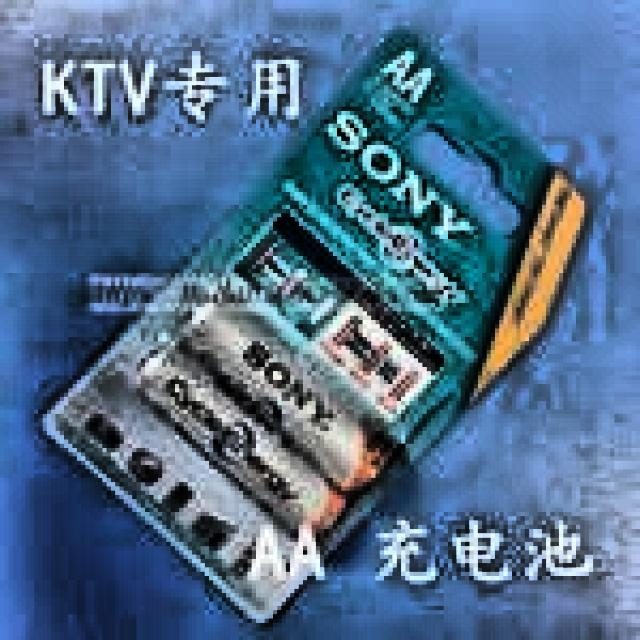Non-Valuable Waste - Batteries: (141, 306, 391, 531)
